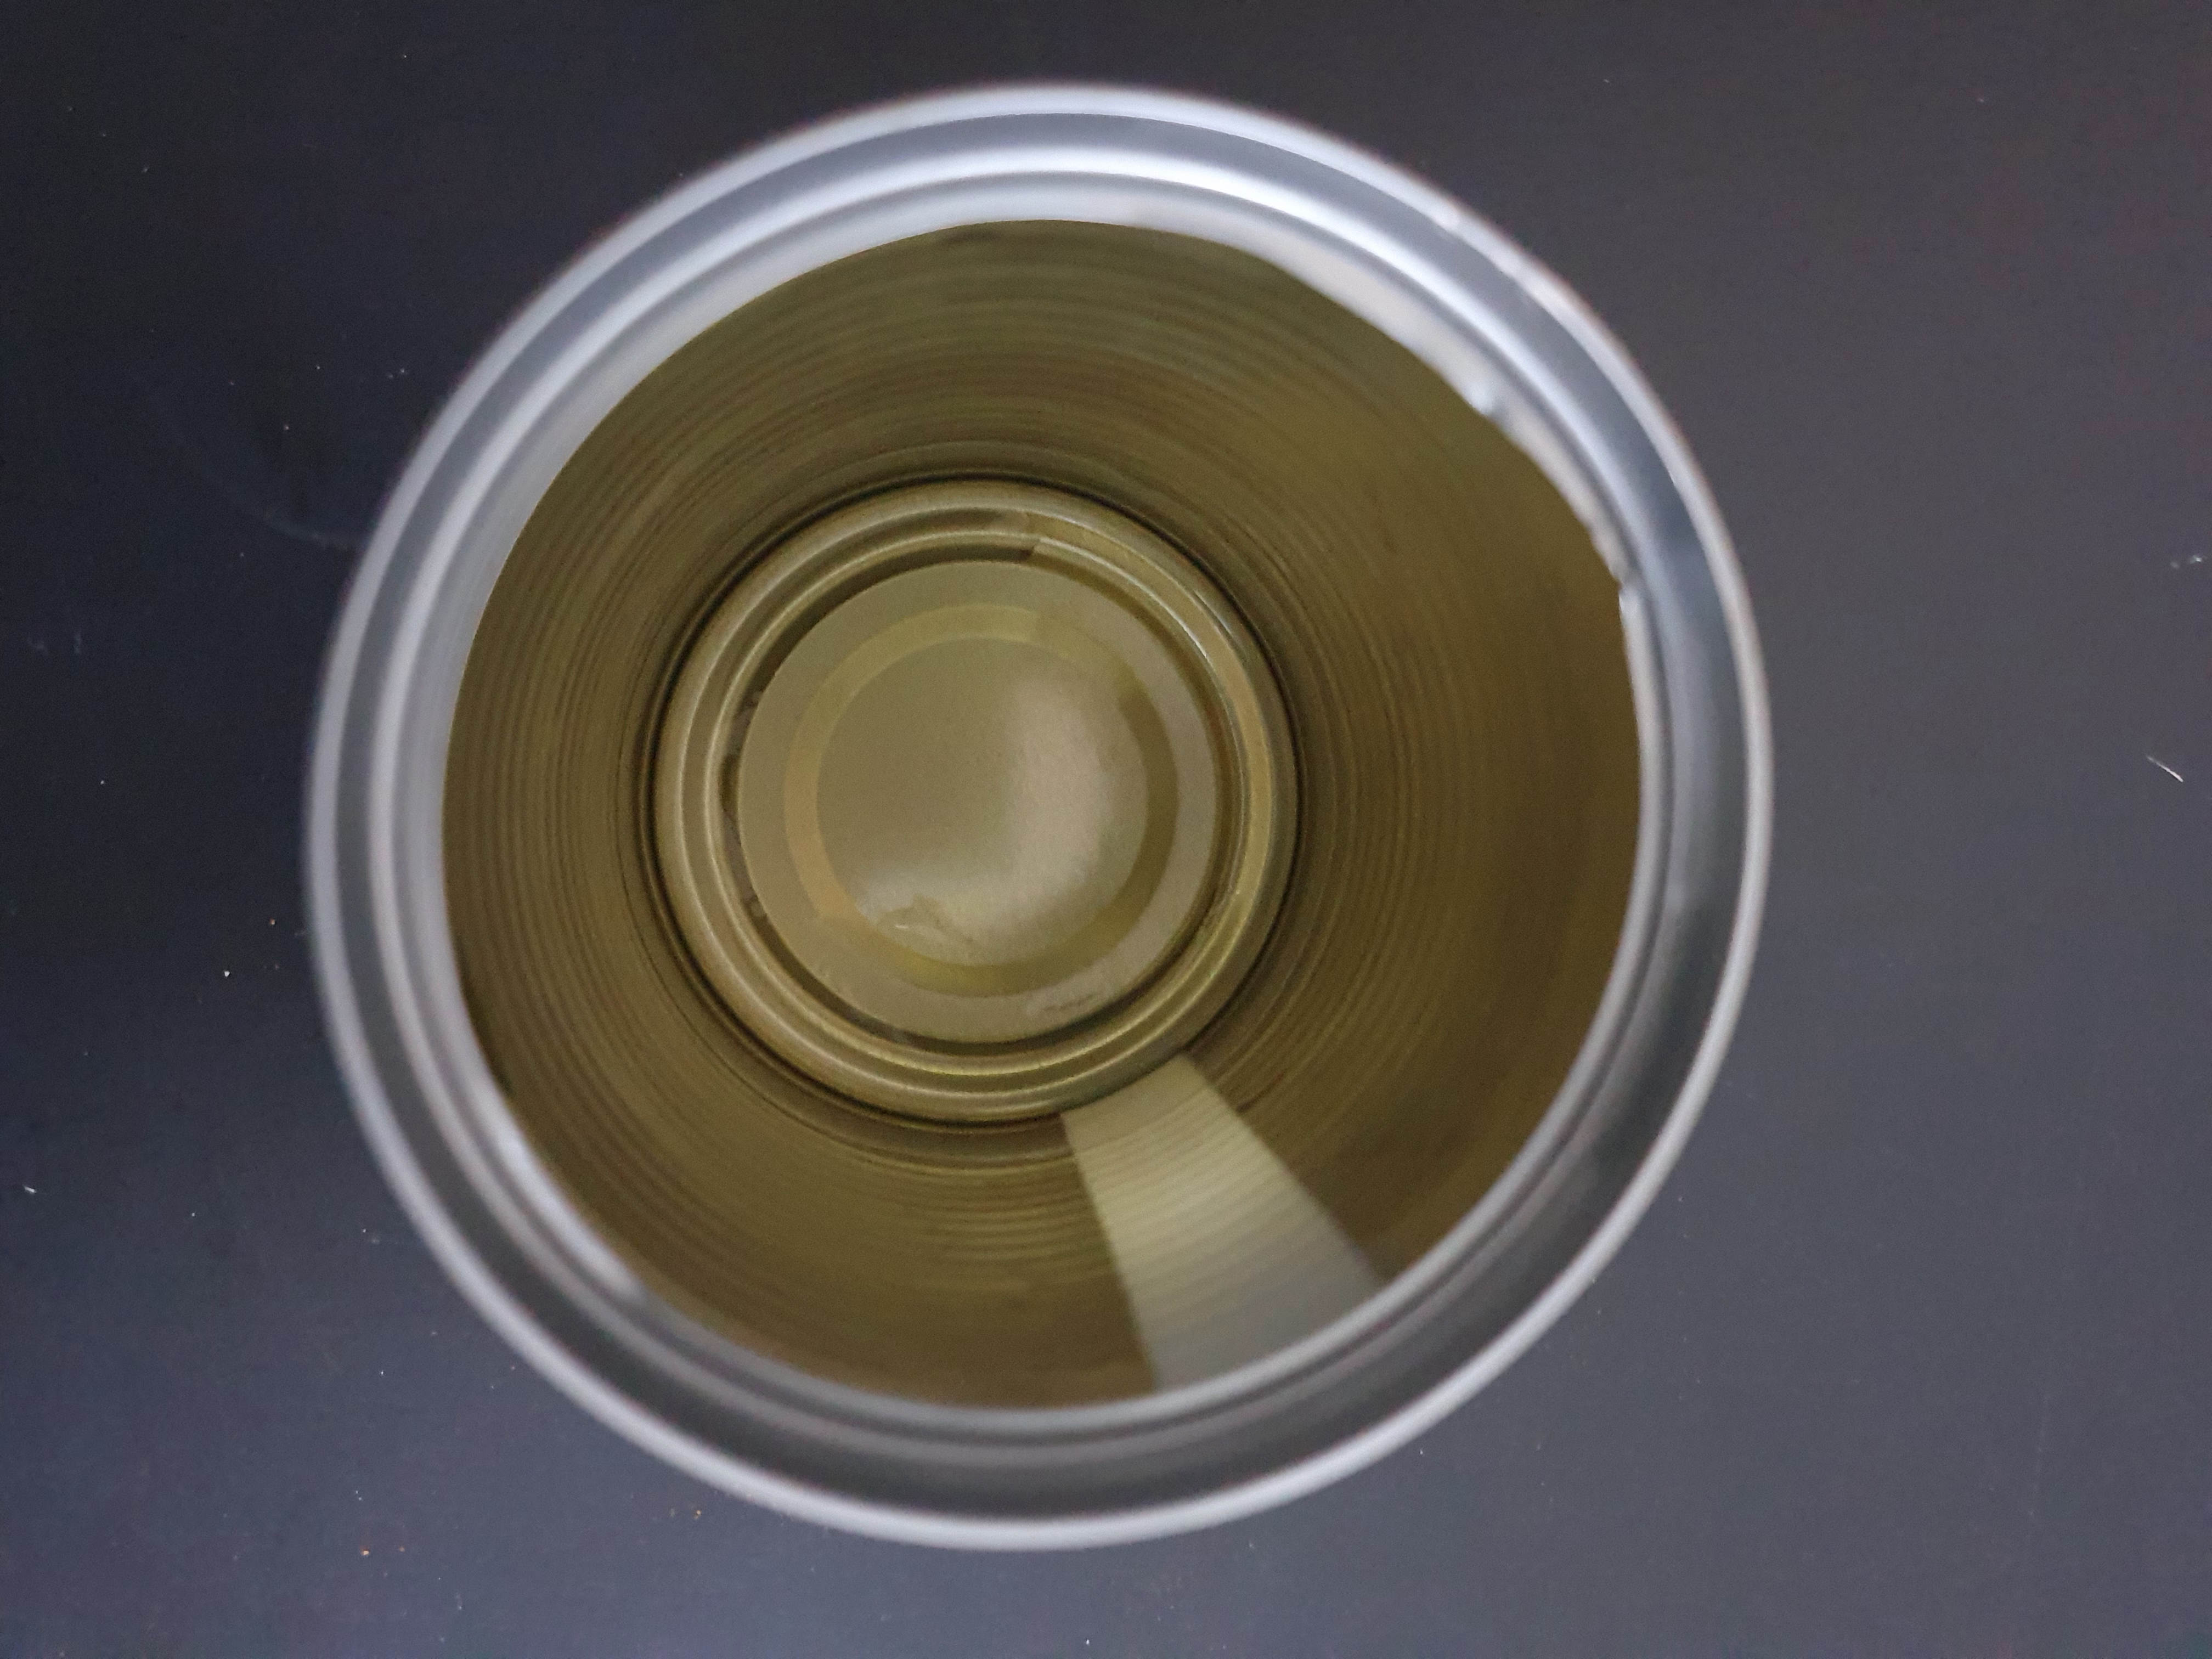metal: (239, 47, 1803, 1591)
